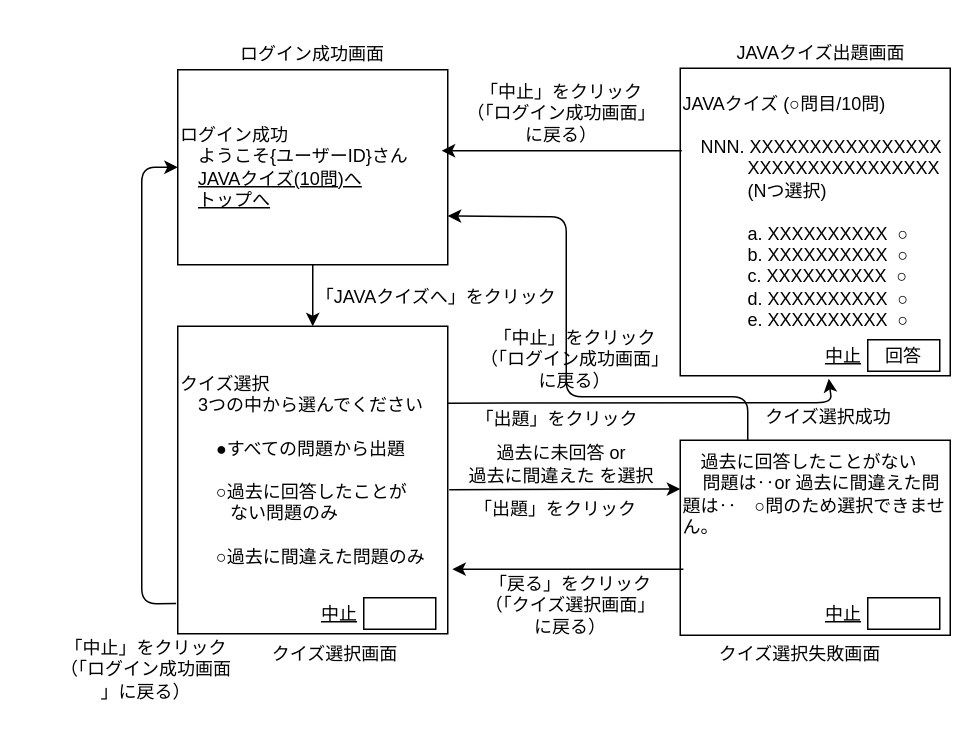
This 977x732 diagram has some shape labels left out. The box of each missing label's shape, as (x1, y1, x2, y2) in pixels:
出題: (362, 596, 436, 629)
戻る: (866, 596, 940, 629)
